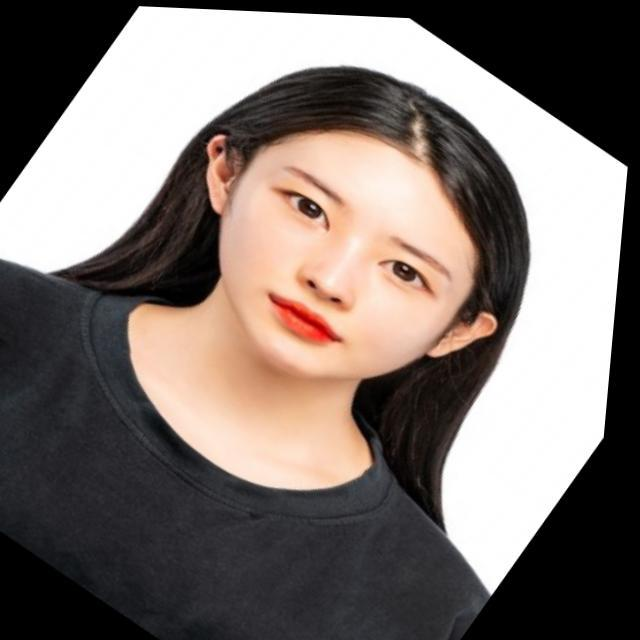Nonhelmet: (192, 56, 521, 372)
